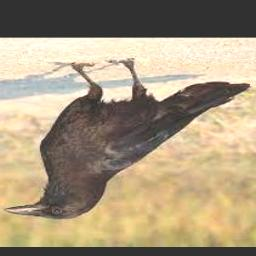Crow: (4, 59, 250, 219)
